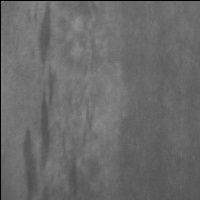inclusion: (18, 20, 57, 200), (29, 1, 56, 68), (61, 147, 86, 199)
